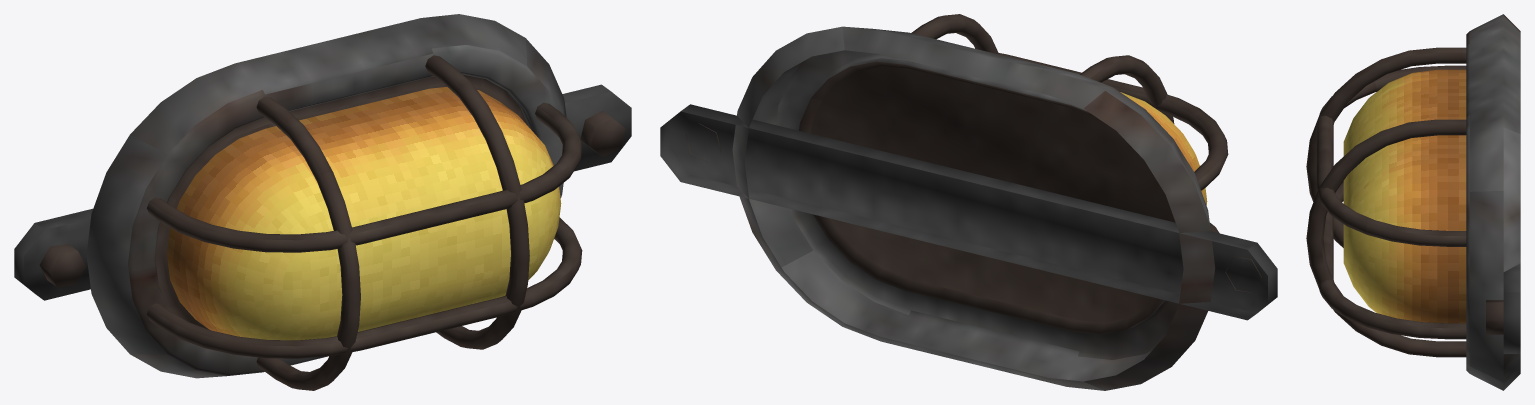
Rendered from lamp_2.obj.
The picture shows the model from 3 angles, left to right: view 1: azimuth 30°, elevation 25°; view 2: azimuth 150°, elevation 25°; view 3: azimuth 270°, elevation 25°; orthographic projection. The views are drawn at different scales.
Visible parts, largest first — view 1: lamp_2; view 2: lamp_2; view 3: lamp_2.
Part boxes in pixels (x1,y1,x2,y2): lamp_2: (14,14,631,390); lamp_2: (660,14,1277,390); lamp_2: (1306,14,1520,390).
Size of the model in its own units: 0.36 by 0.176 by 0.126.
